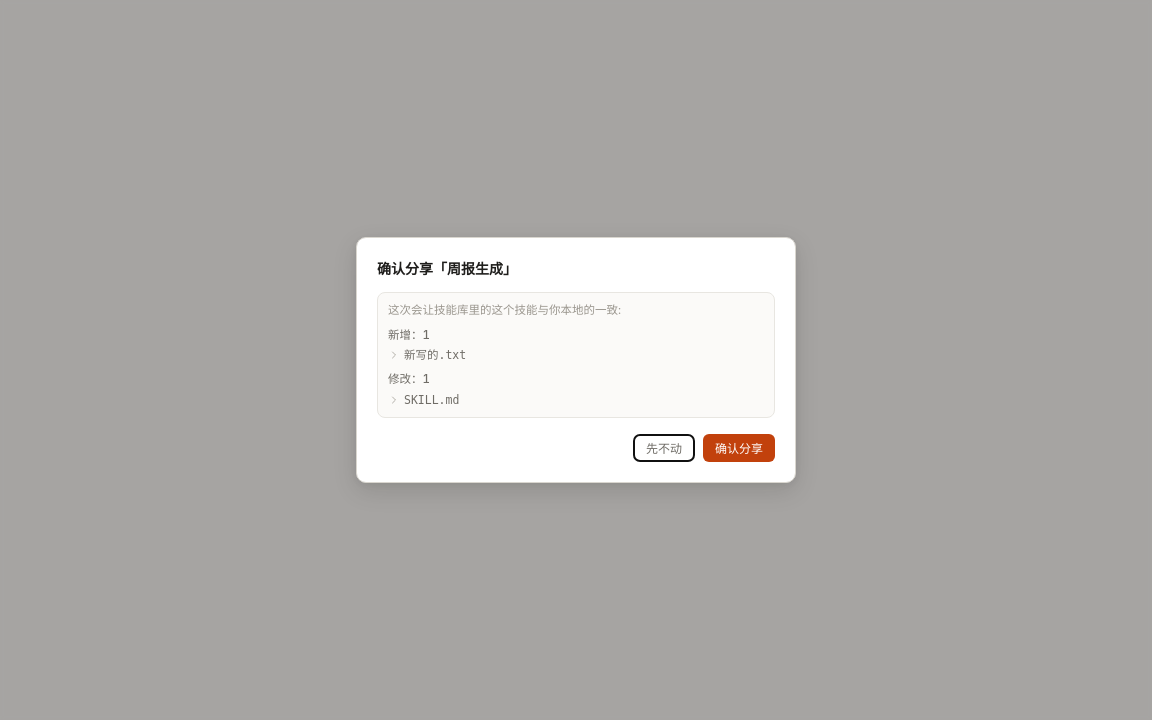
Test: 🔴 v8 任务 10 / Q16:这一屏的清单同样能就地展开 › 新增文件按需读本地盘,读哪个目录由发起方给的 localTarget 决定;修改的文件展开是差异
The width and height of the screenshot is (1152, 720).
What coordinates should you click on to do the following:
click the button "SKILL.md"
I would click on:
 (432, 400)
Its box is 388,391 -> 760,409.
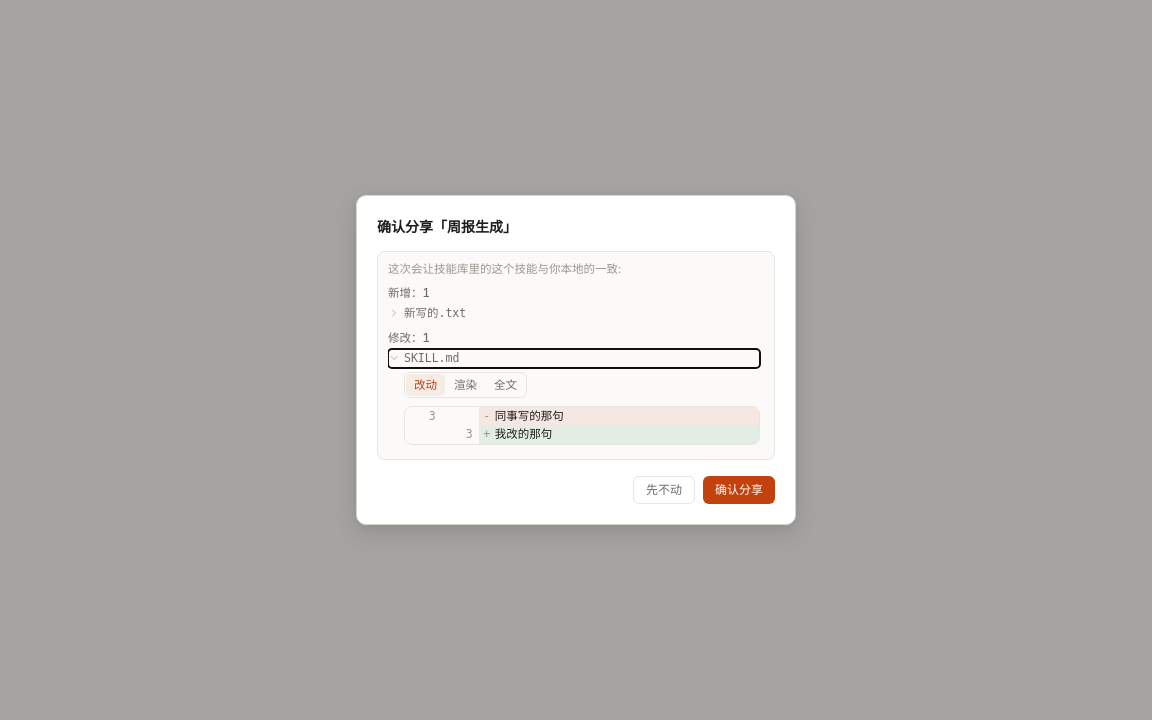
Check: the text "我改的那句" is shown, box 495,427 -> 552,441
What coordinates should you click on to do the following:
click the button "新写的.txt"
I would click on:
 (435, 313)
Its box is 388,304 -> 760,323.
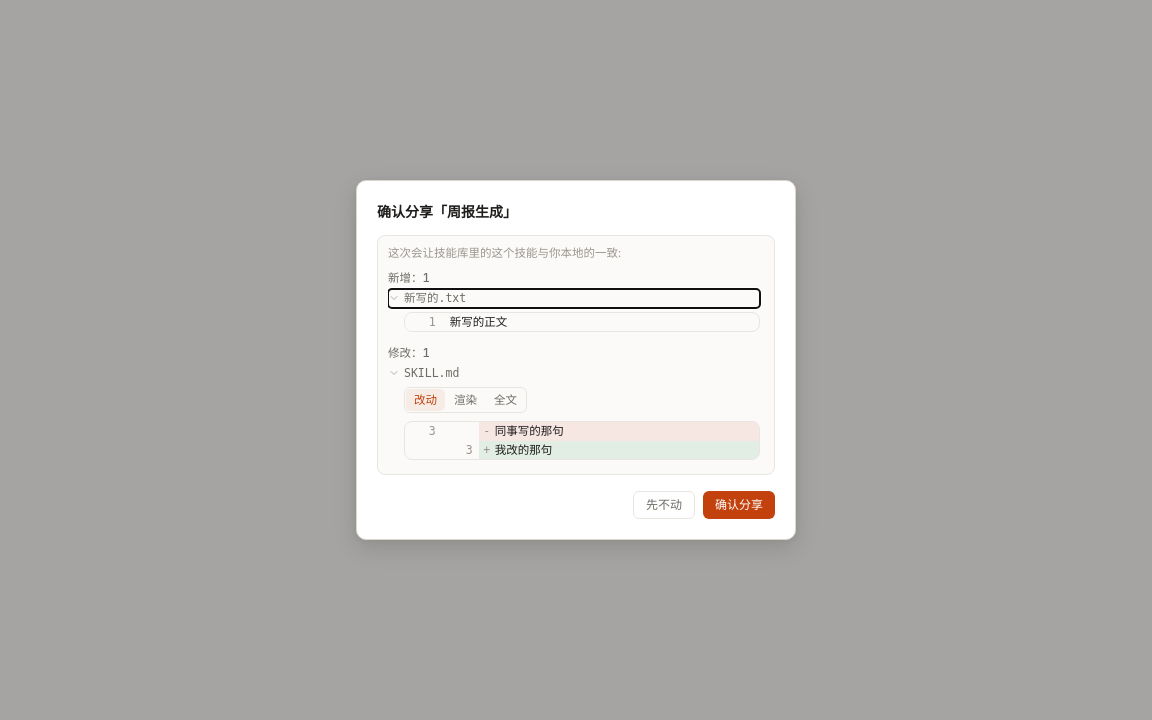
Check: the text "新写的正文" is shown, box 450,315 -> 507,329
